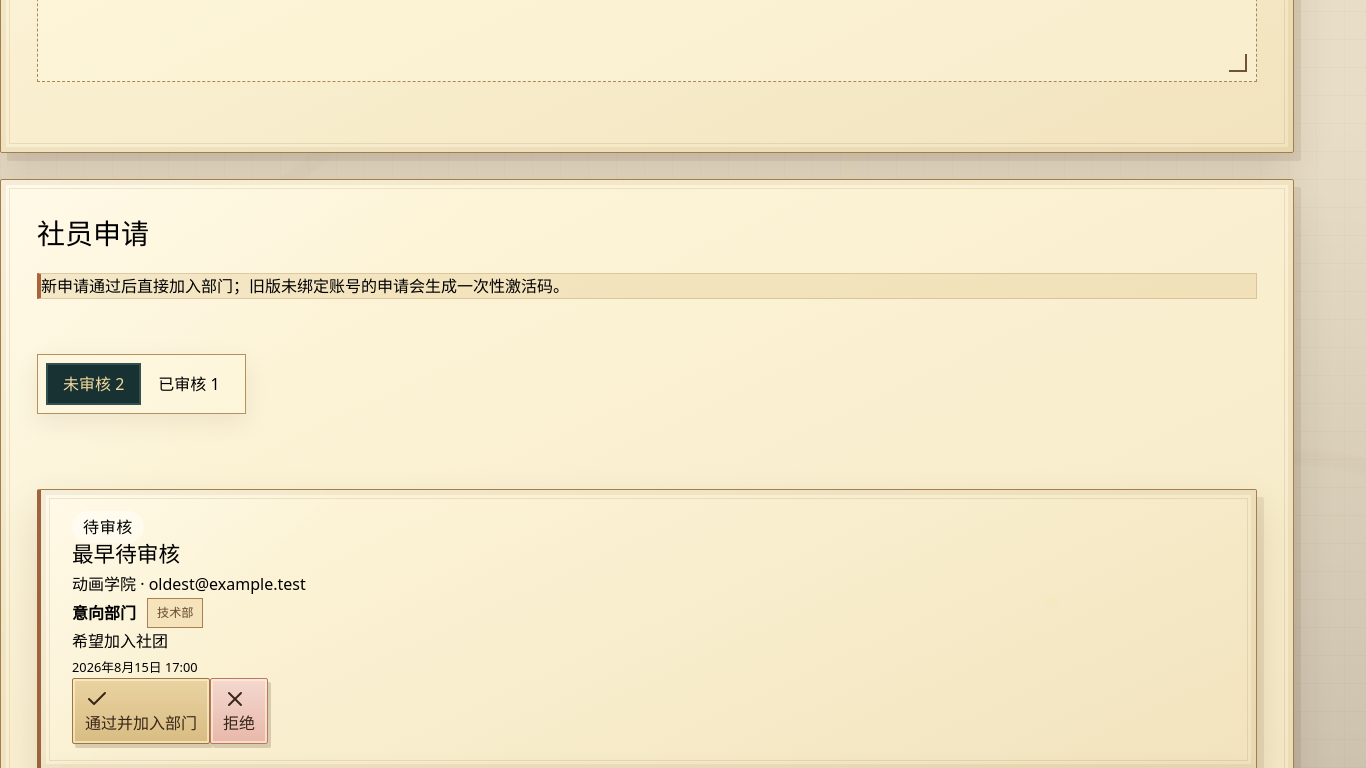
Scenario: Adventurer Guild app › separates pending and reviewed member applications and puts the longest-waiting pending request first
(page scrolled)
Expected: the text "已审核同学" is not shown
Click the button "已审核 1".
click(189, 384)  # box [141, 363, 237, 405]
(page scrolled)
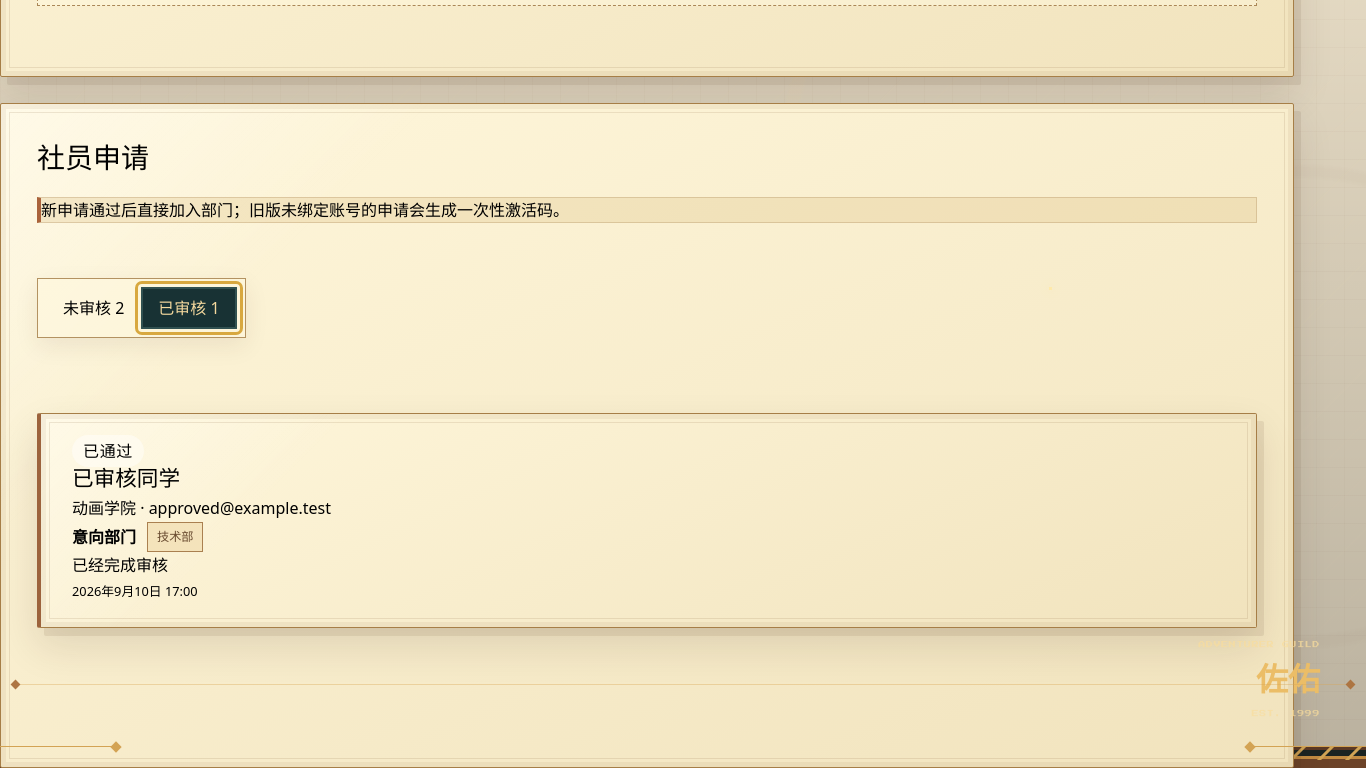
Now the element named "已审核成员" shows "已审核同学", box [72, 467, 180, 491]
Now the heading "最早待审核" is gone
